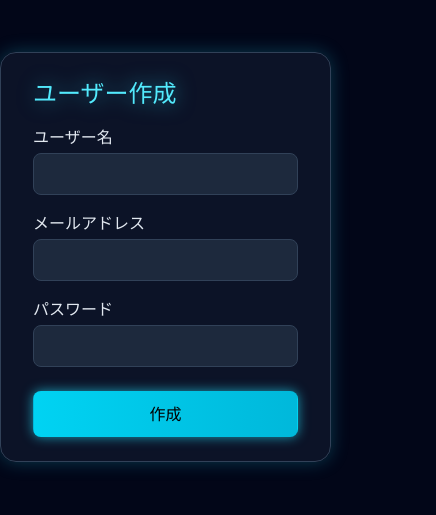
CreateUserCard › パスワードが8文字未満の場合は送信せずエラーを表示する
Step 1. Type "Alice" into the field labelled "ユーザー名" → {"x": 166, "y": 174}, box [33,153,298,195]
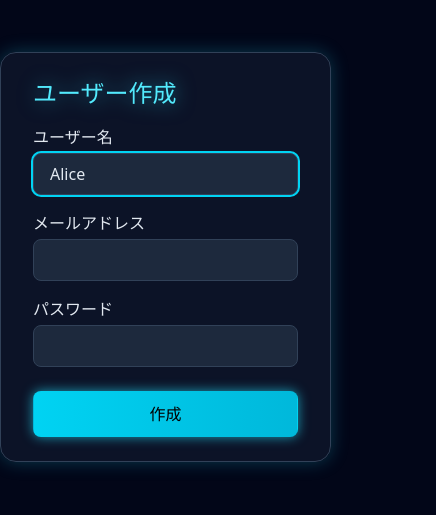
Step 2. Type "alice@example.com" into the field labelled "メールアドレス" → {"x": 166, "y": 260}, box [33,239,298,281]
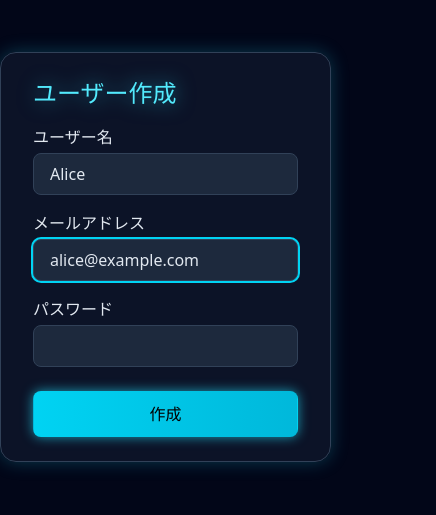
Step 3. Type "abc1234" into the password field labelled "パスワード" → {"x": 166, "y": 346}, box [33,325,298,367]
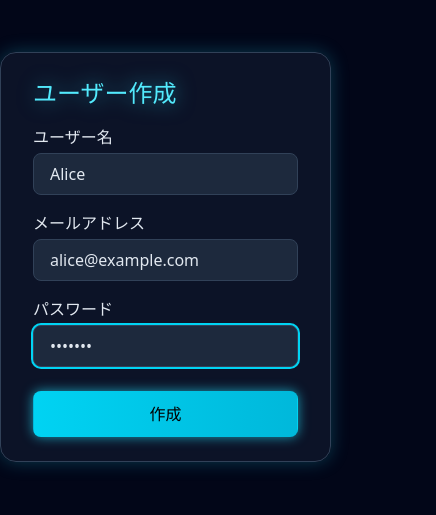
Step 4. Click the button "作成" → {"x": 166, "y": 414}, box [33,391,298,437]
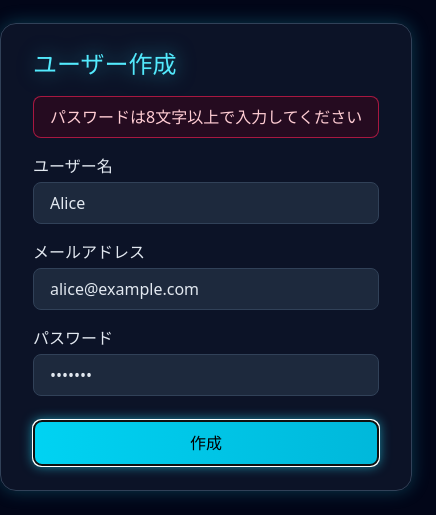
Now the text "パスワードは8文字以上で入力してください" is shown, box [33,96,379,138]
